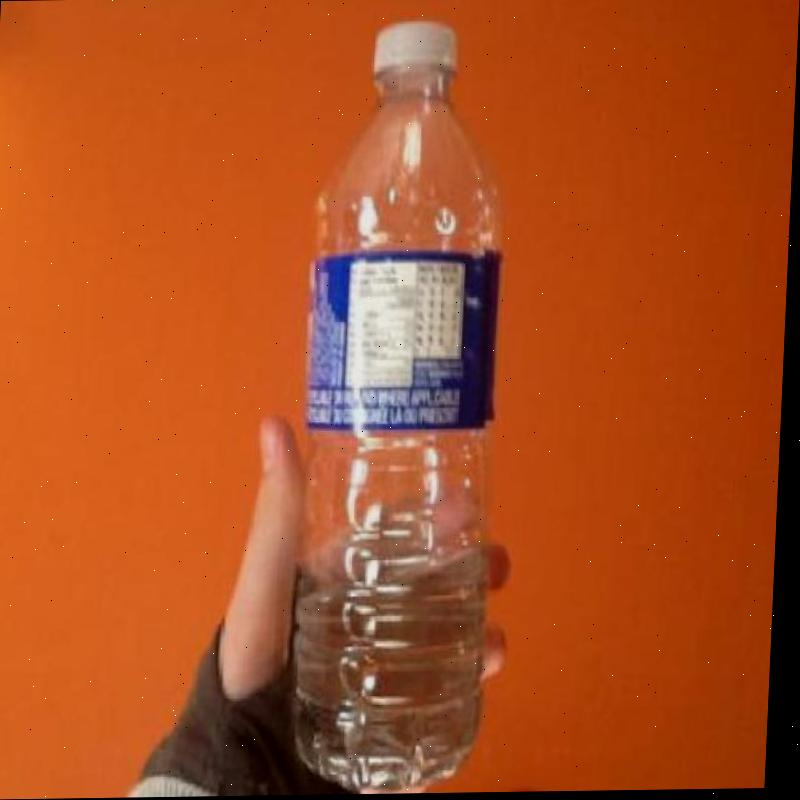botella: (286, 16, 517, 793)
